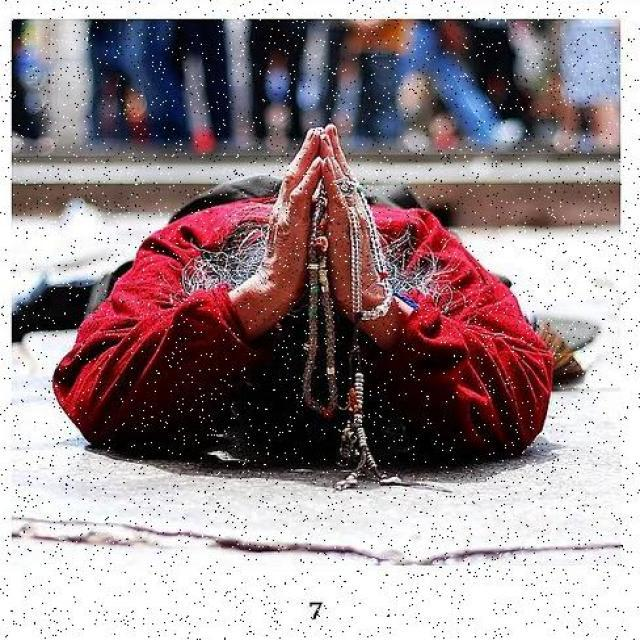fall: (55, 163, 560, 454)
